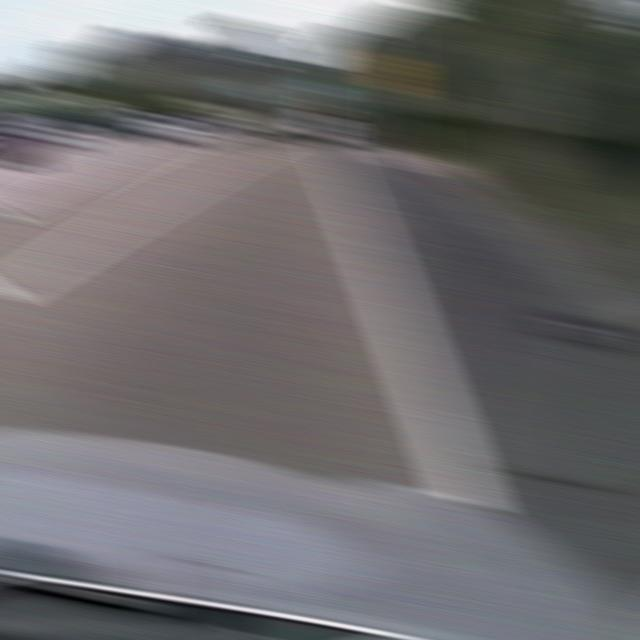speedLimit45: (371, 50, 417, 94)
